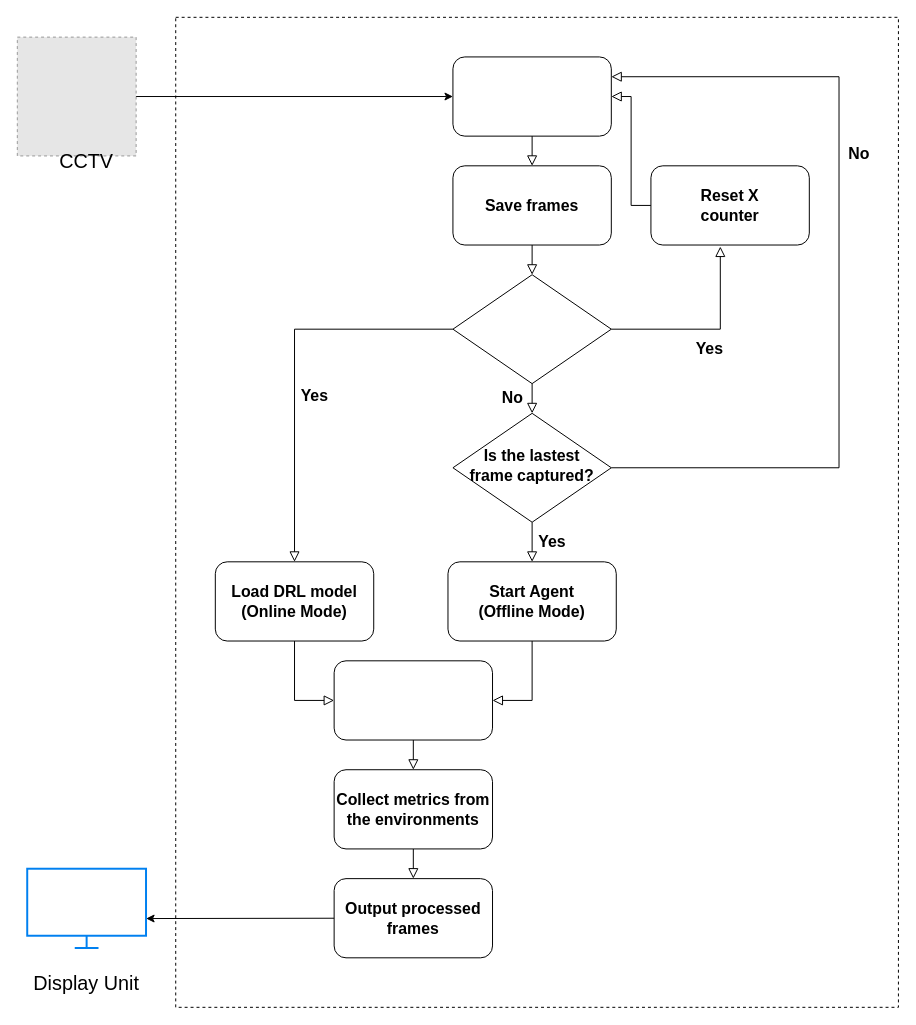
The diagram is 916 pixels wide and 1025 high, and some of its shapes have lost their labels. Grey dashed boxes stand in for pictures. The centre of each missing label's shape, as x and y in pixels:
"Assign the frames to the environments" belongs at (413,700).
"Have X seconds passed?" belongs at (531,329).
"Read frames" belongs at (531,96).
